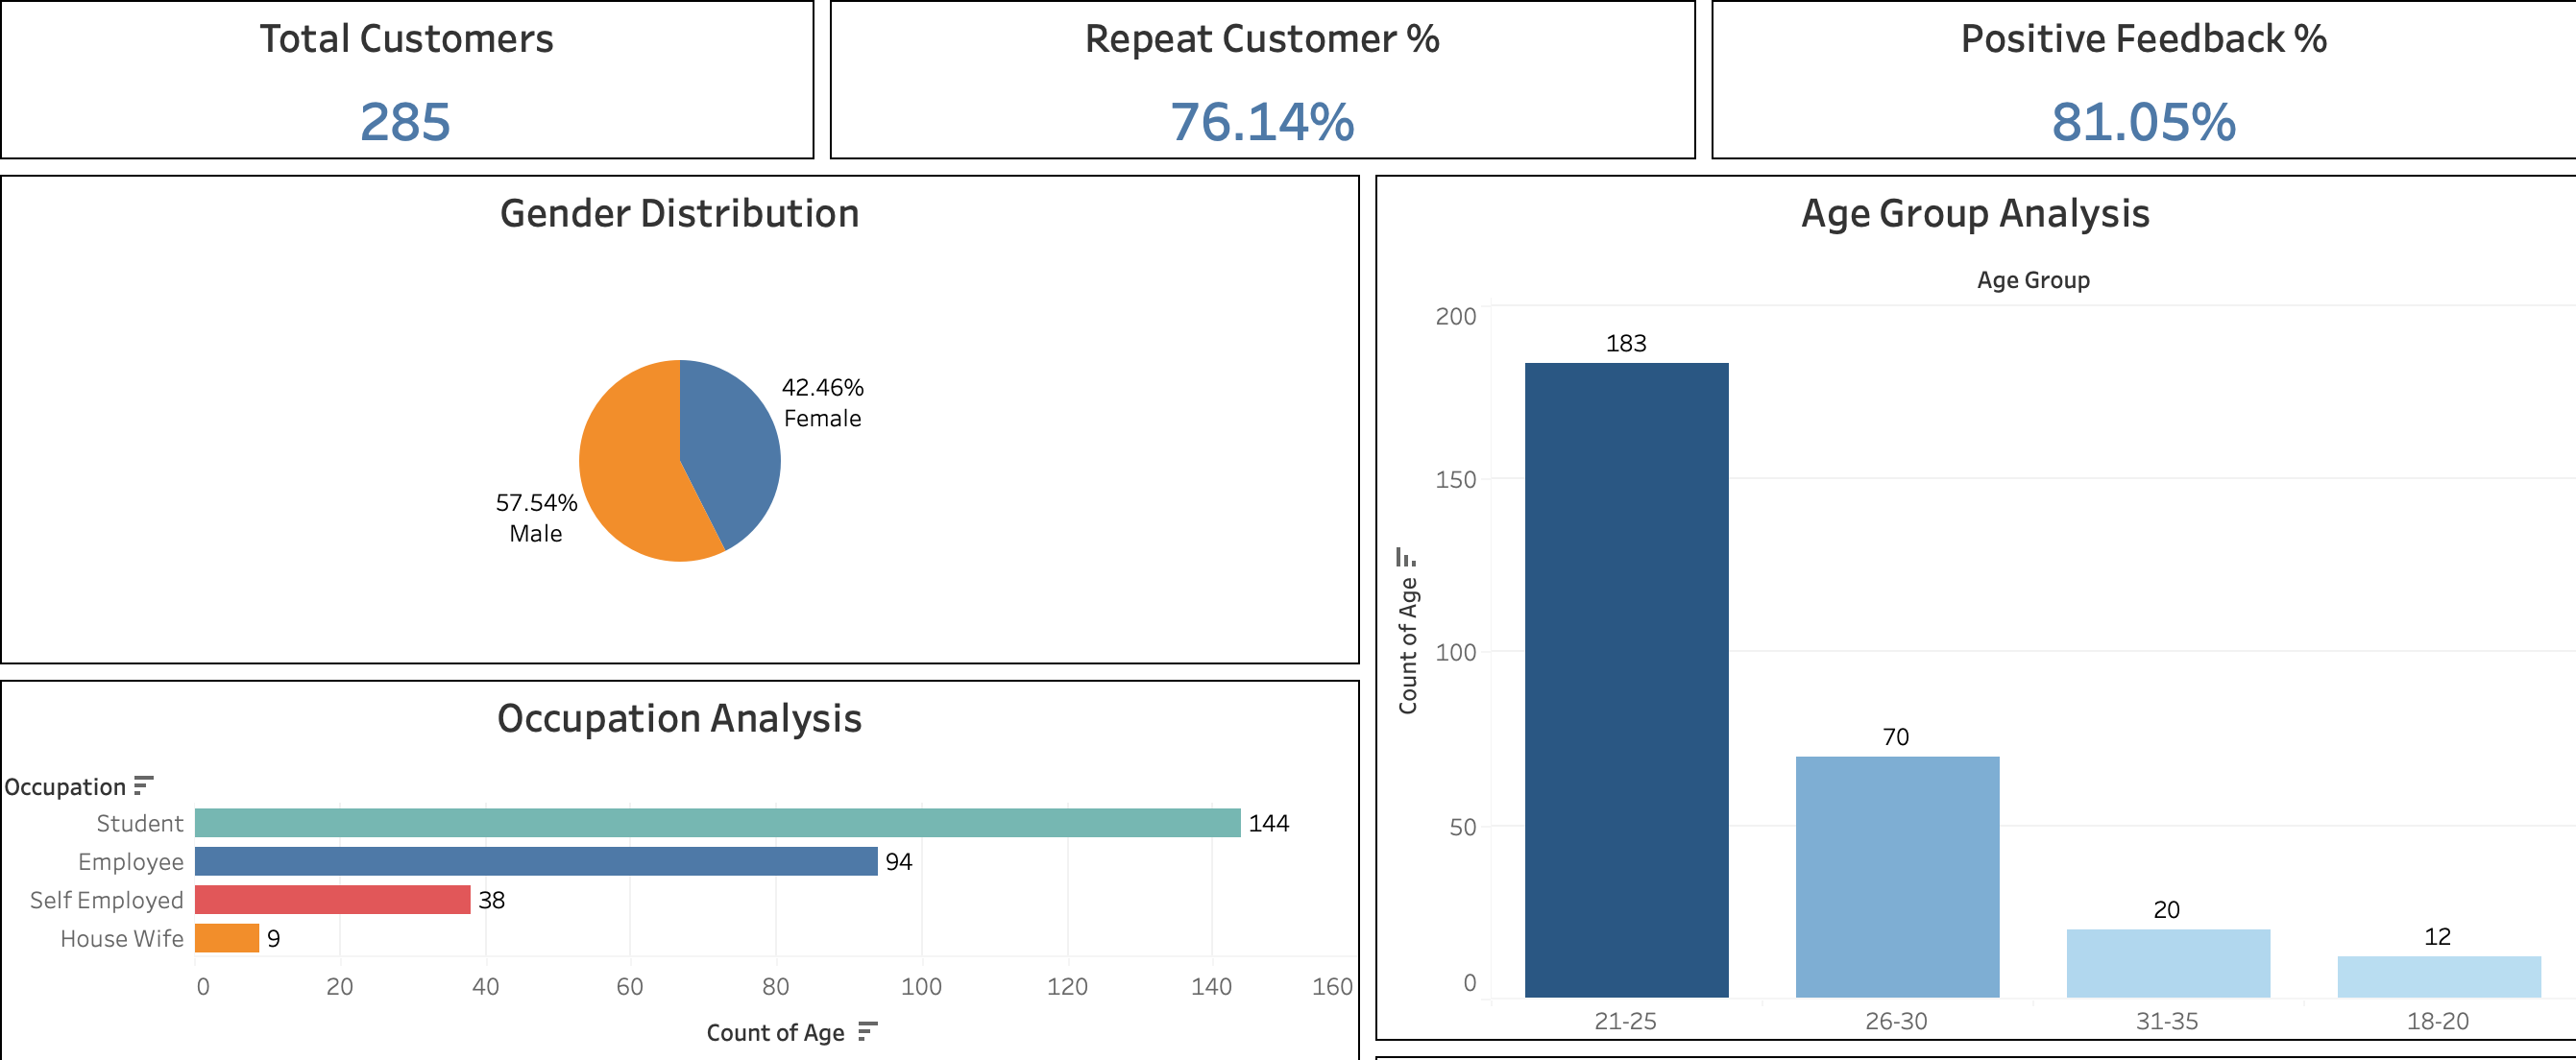

Layout of this report page (visuals, bound fields, positions):
{"tool":"tableau","page":{"name":"Dashboard 1","canvas":[1000,1000],"units":"permille","ordinal":0},"visuals":[{"type":"worksheet","title":"Total_Customers","mark":"Automatic","box":[5.9,7.8,278.8,88.9]},{"type":"worksheet","title":"KPI_Repeat_Rate","mark":"Automatic","box":[284.6,7.8,296.2,88.9]},{"type":"worksheet","title":"KPI_Positive_Feedback","mark":"Automatic","box":[580.8,7.8,296.2,88.9]},{"type":"legend","title":"Sheet 6","param":"[federated.146zzzx1qp409g19sbzkm1ipxaws].[none:Occupation:nk]","box":[877,7.8,117.1,103.5]},{"type":"worksheet","title":"Sheet 4","mark":"Pie","box":[5.9,96.7,461.9,256.8]},{"type":"worksheet","title":"Sheet 5","mark":"Bar","rows":["Age"],"cols":["Age_Group"],"box":[467.8,96.7,409.2,477.5]},{"type":"legend","title":"Sheet 8","param":"[federated.146zzzx1qp409g19sbzkm1ipxaws].[none:Repeat_Order:nk]","box":[877,111.3,117.1,64.5]},{"type":"legend","title":"Sheet 10","param":"[federated.146zzzx1qp409g19sbzkm1ipxaws].[cnt:Age:qk]","box":[877,175.8,117.1,63.5]},{"type":"worksheet","title":"Sheet 6","mark":"Automatic","rows":["Occupation"],"cols":["Age"],"box":[5.9,353.5,461.9,220.7]},{"type":"worksheet","title":"Sheet 8","mark":"Pie","box":[5.9,574.2,461.9,209]},{"type":"worksheet","title":"Sheet 7","mark":"Automatic","rows":["Monthly_Income"],"cols":["Age"],"box":[467.8,574.2,409.2,209]},{"type":"worksheet","title":"Sheet 9","mark":"Automatic","rows":["Age"],"cols":["Occupation"],"box":[5.9,783.2,461.9,209]},{"type":"worksheet","title":"Sheet 10","mark":"Automatic","rows":["Feedback"],"cols":["Age_Group"],"box":[467.8,783.2,409.2,209]}]}

Visuals, with their boxes on the dashboard's canvas, which has no fixed pixel size, in thousandths of its width and height (x1, y1, x2, y2). These are canvas units, not pixel positions in the 2576x1060 screenshot, which may show the page scaled, cropped or inside an application window:
"Total_Customers" worksheet: bbox=(6, 8, 285, 97)
"KPI_Repeat_Rate" worksheet: bbox=(285, 8, 581, 97)
"KPI_Positive_Feedback" worksheet: bbox=(581, 8, 877, 97)
"Sheet 6" legend: bbox=(877, 8, 994, 111)
"Sheet 4" worksheet (Pie marks): bbox=(6, 97, 468, 354)
"Sheet 5" worksheet (Bar marks): bbox=(468, 97, 877, 574)
"Sheet 8" legend: bbox=(877, 111, 994, 176)
"Sheet 10" legend: bbox=(877, 176, 994, 239)
"Sheet 6" worksheet: bbox=(6, 354, 468, 574)
"Sheet 8" worksheet (Pie marks): bbox=(6, 574, 468, 783)
"Sheet 7" worksheet: bbox=(468, 574, 877, 783)
"Sheet 9" worksheet: bbox=(6, 783, 468, 992)
"Sheet 10" worksheet: bbox=(468, 783, 877, 992)
